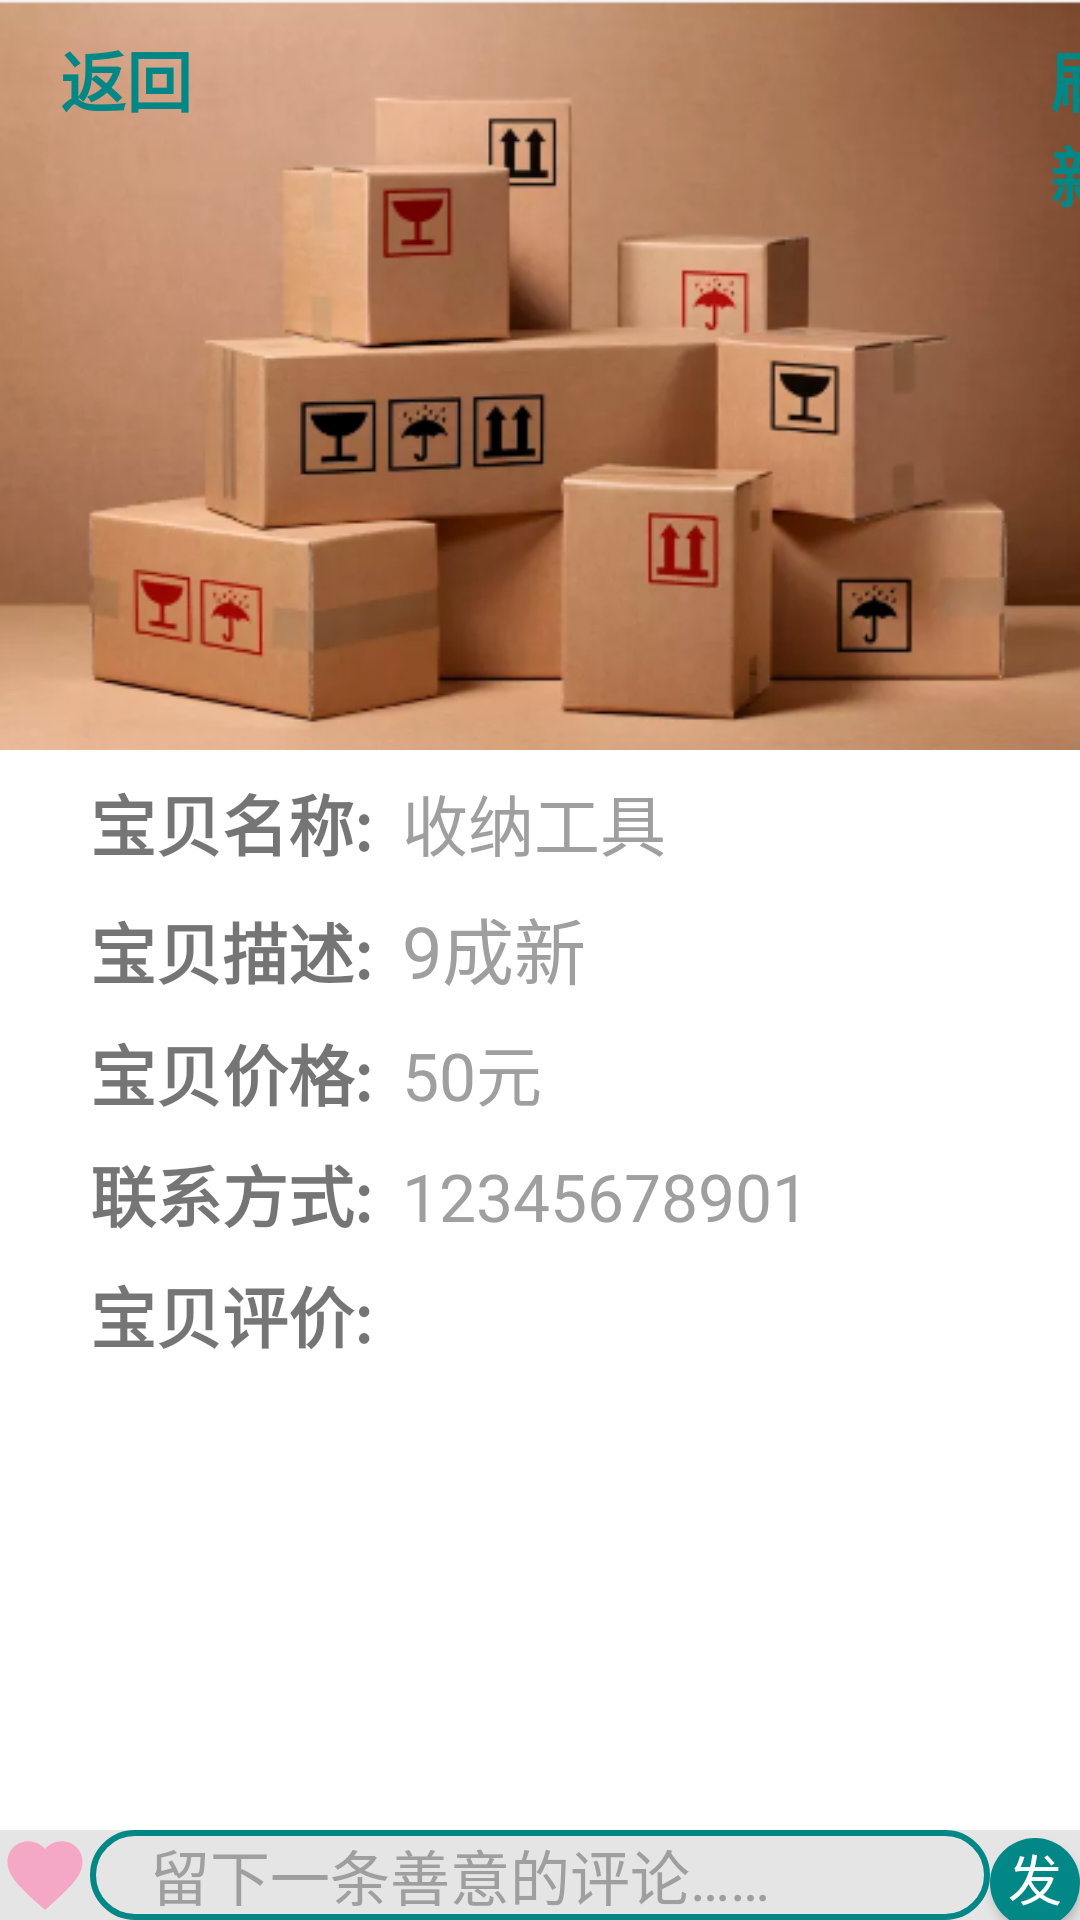

Icon click points for this 1080×1920 phone screenshot, format point (x, y):
like: point (45, 1875)
